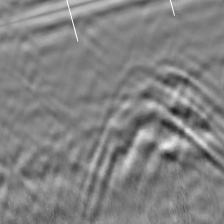Utility: (89, 60, 224, 176)
